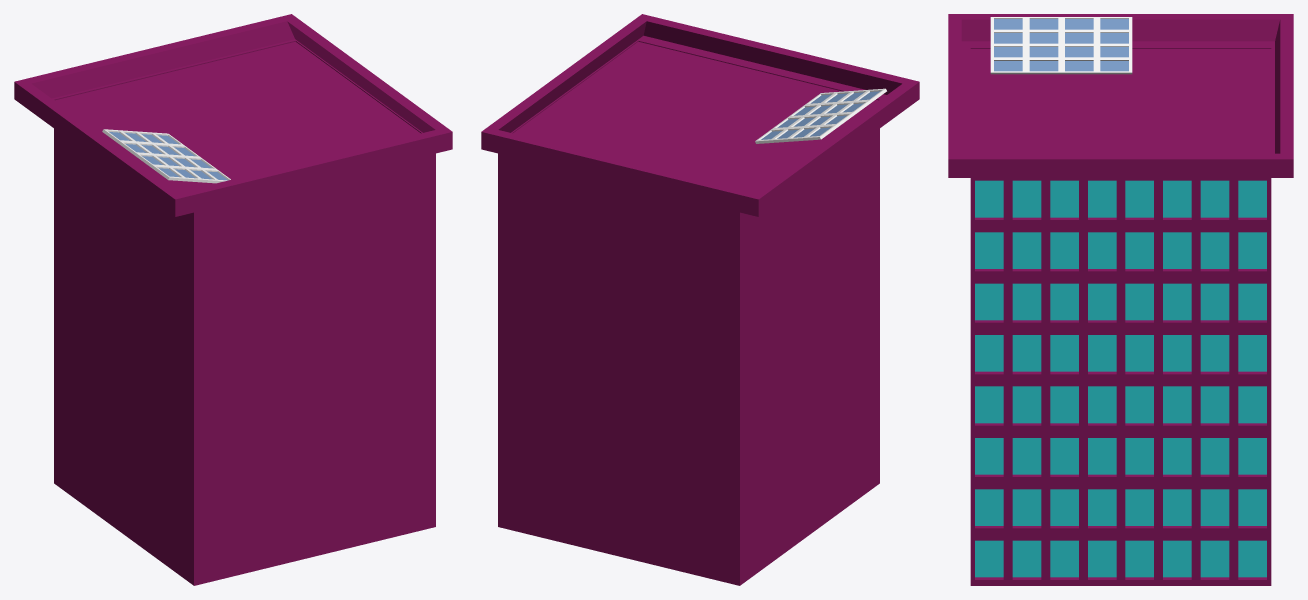
The model's file is BuildingP.obj.
The picture shows the model from 3 angles, left to right: view 1: azimuth 30°, elevation 25°; view 2: azimuth 150°, elevation 25°; view 3: azimuth 270°, elevation 25°; orthographic projection. The views are drawn at different scales.
Parts seen in each view (by area): view 1: Cube.093; view 2: Cube.093; view 3: Cube.093.
Part boxes in pixels (x1=…): Cube.093: x1=14, y1=14, x2=452, y2=585; Cube.093: x1=481, y1=14, x2=919, y2=585; Cube.093: x1=948, y1=14, x2=1293, y2=585.
Size of the model in its own units: 9.17 by 12.79 by 9.21.
